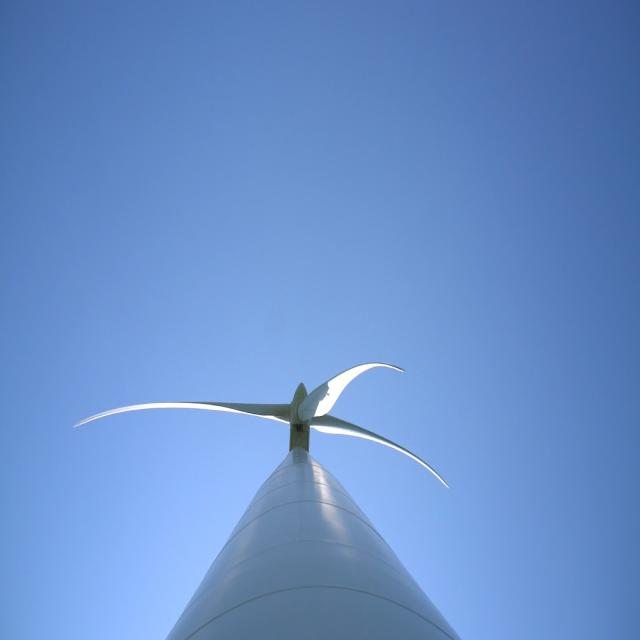blade 1: (302, 349, 442, 406)
blade 2: (344, 426, 452, 496)
blade 3: (36, 362, 286, 434)
